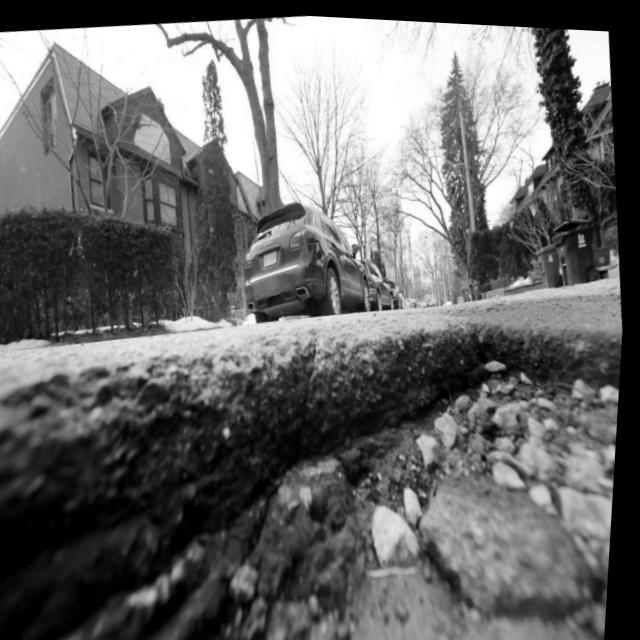pathole: (0, 273, 626, 640)
